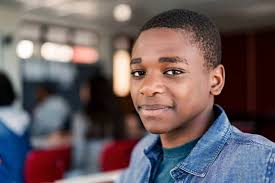person: (128, 8, 226, 136)
